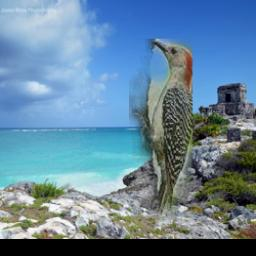Woodpecker: (129, 40, 193, 228)
